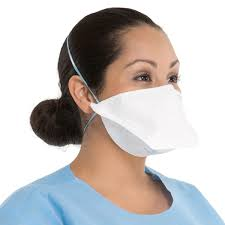mask: (74, 22, 195, 171)
